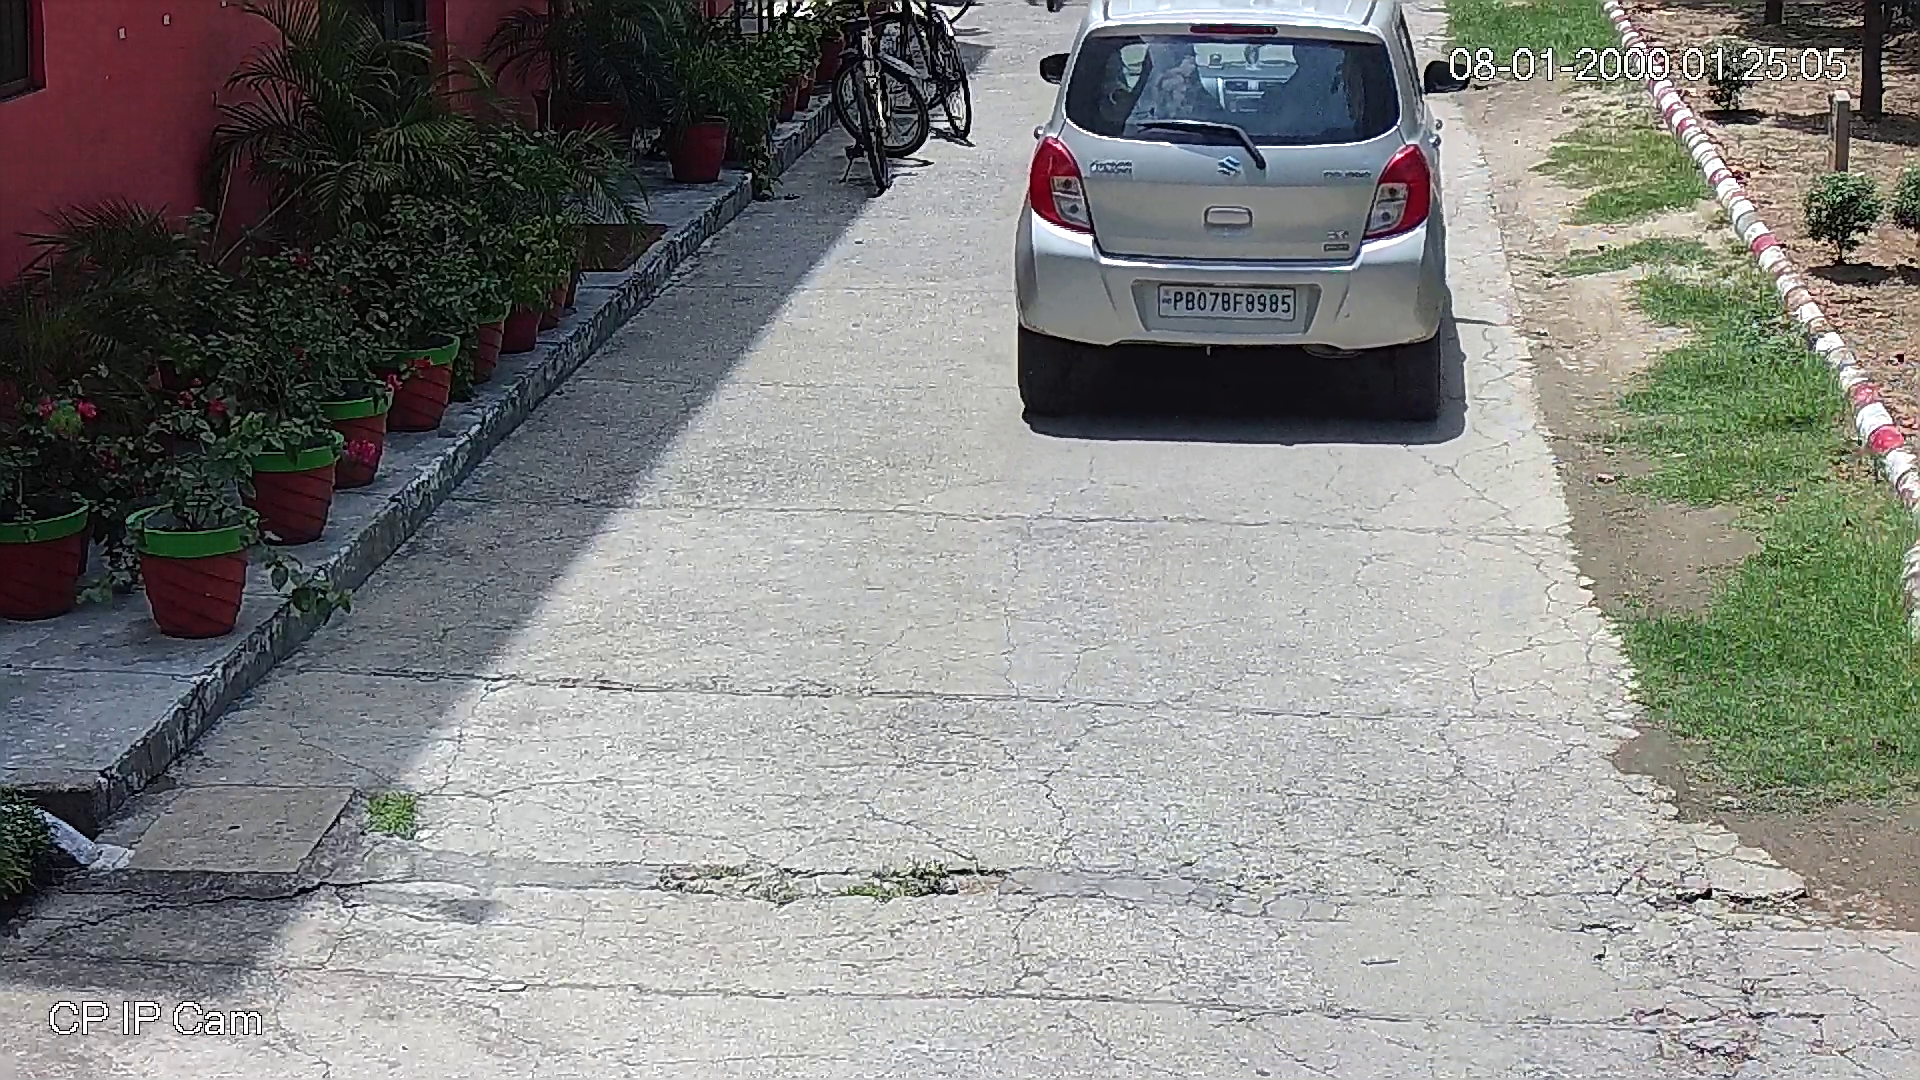plate: (1153, 281, 1304, 324)
